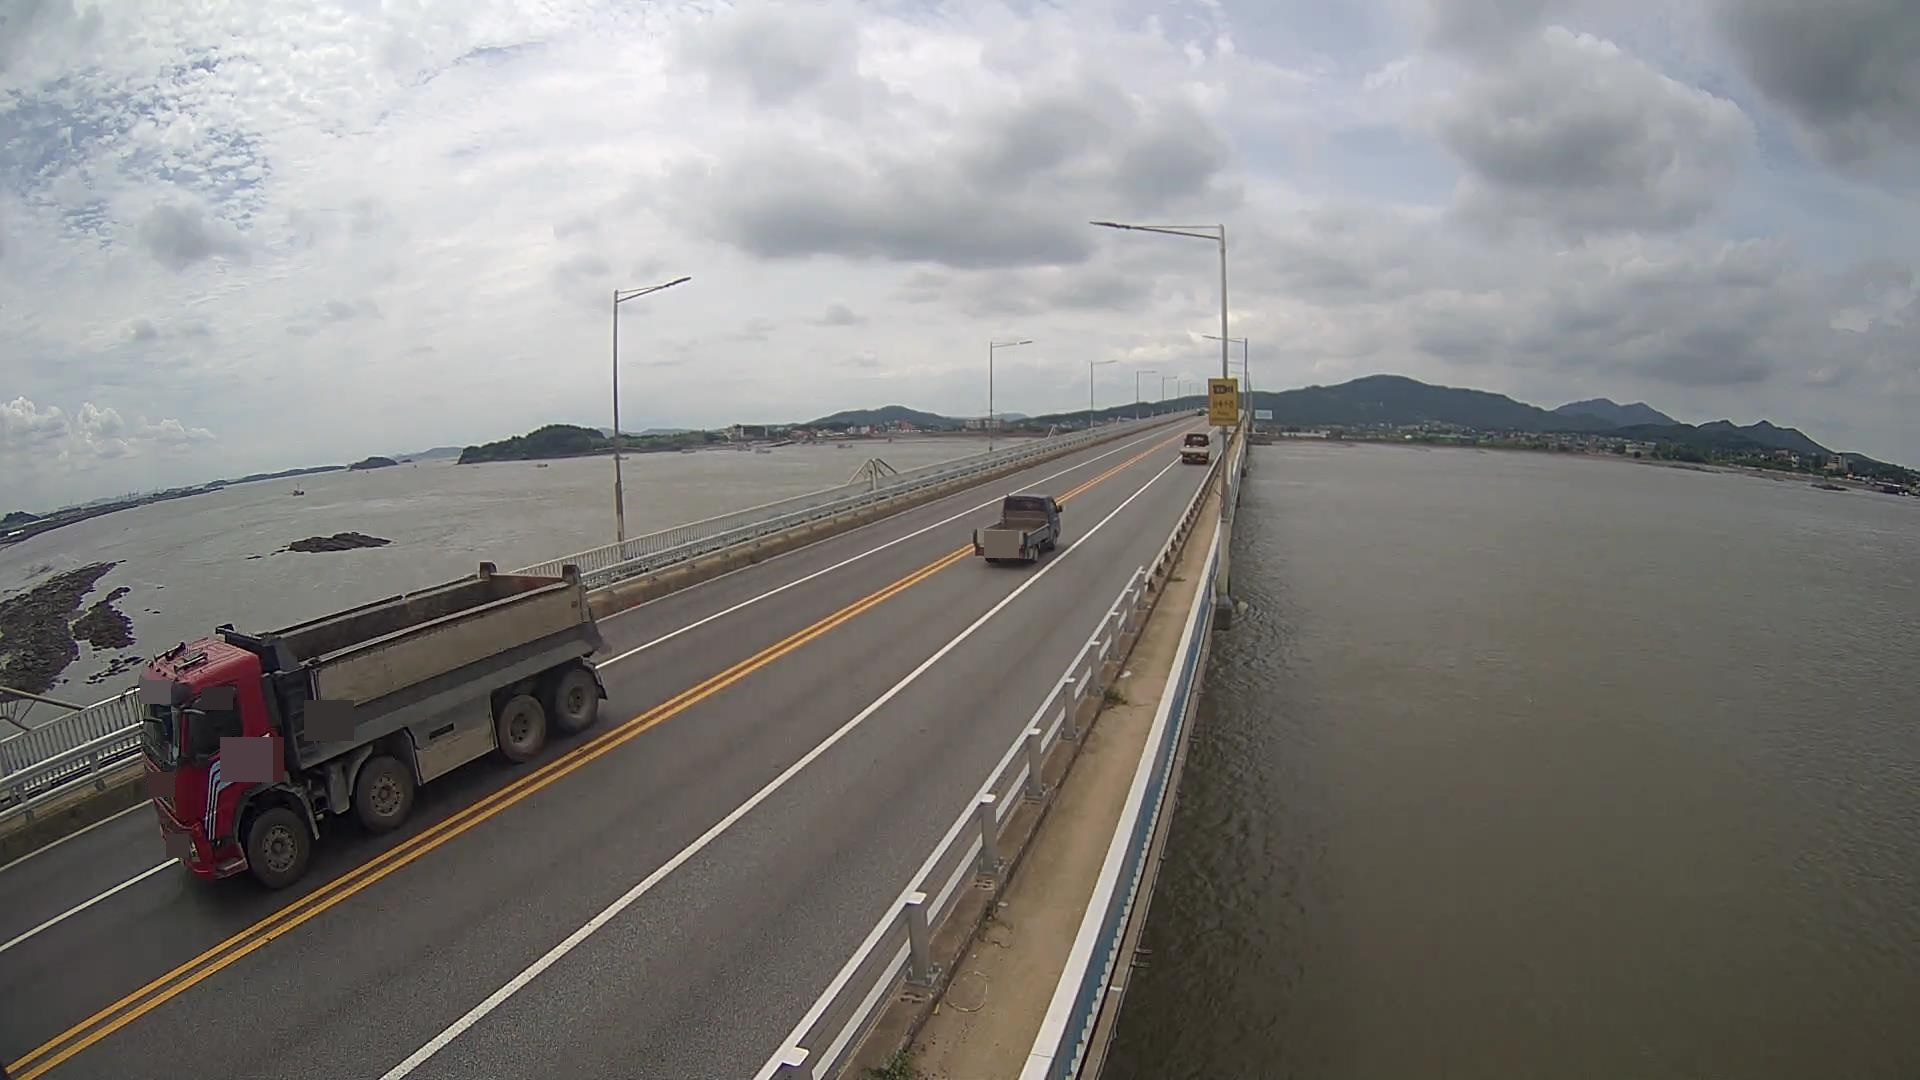정상차량: (119, 562, 608, 889)
